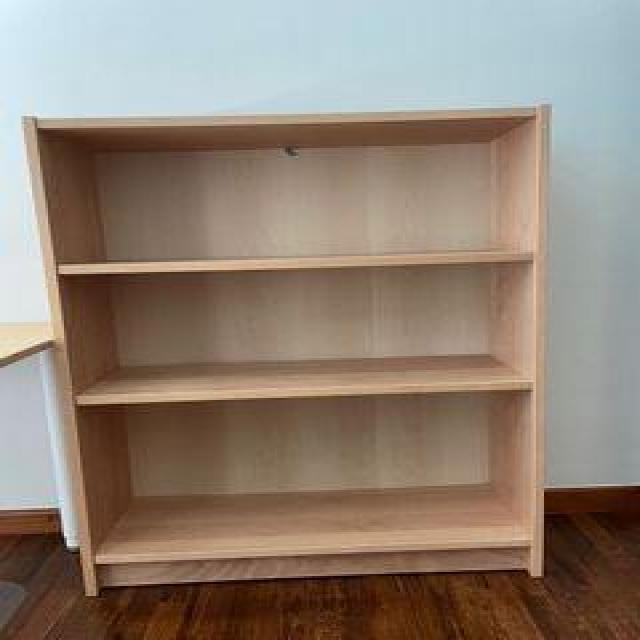Shelf: (14, 98, 573, 599)
